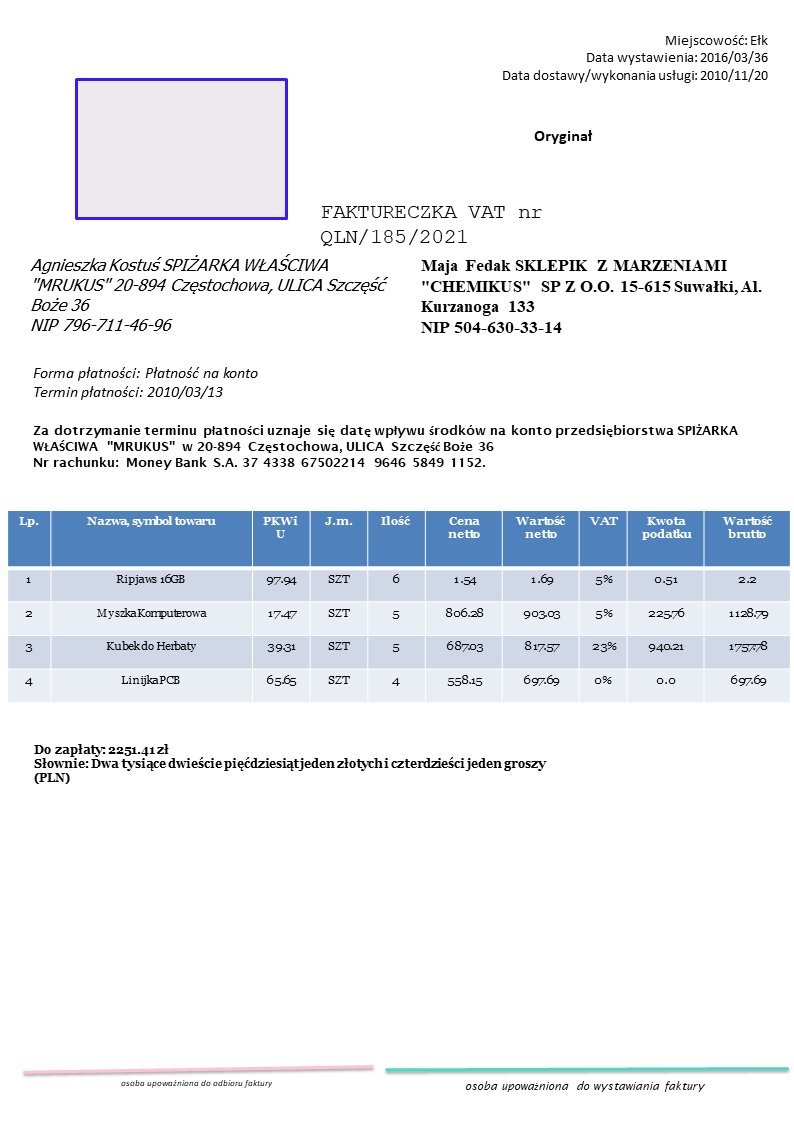Table: (6, 510, 790, 703)
TextBox: (30, 421, 744, 472), (26, 252, 390, 335), (418, 254, 763, 339), (30, 741, 548, 787), (499, 30, 770, 88), (318, 201, 543, 248), (30, 362, 261, 400), (462, 1077, 706, 1095), (117, 1076, 274, 1093), (530, 127, 596, 147)
